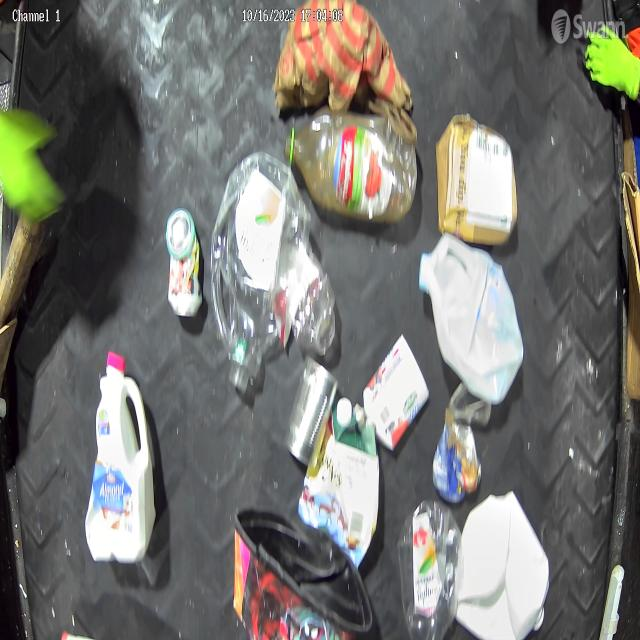can: (286, 354, 339, 471), (166, 206, 203, 318)
milk_jug: (414, 227, 526, 404), (457, 489, 550, 640), (91, 340, 151, 560)
non_white_jug: (287, 102, 412, 216), (298, 396, 380, 569)
plastic_bottle: (209, 153, 299, 400), (401, 498, 455, 635), (294, 238, 337, 355)
